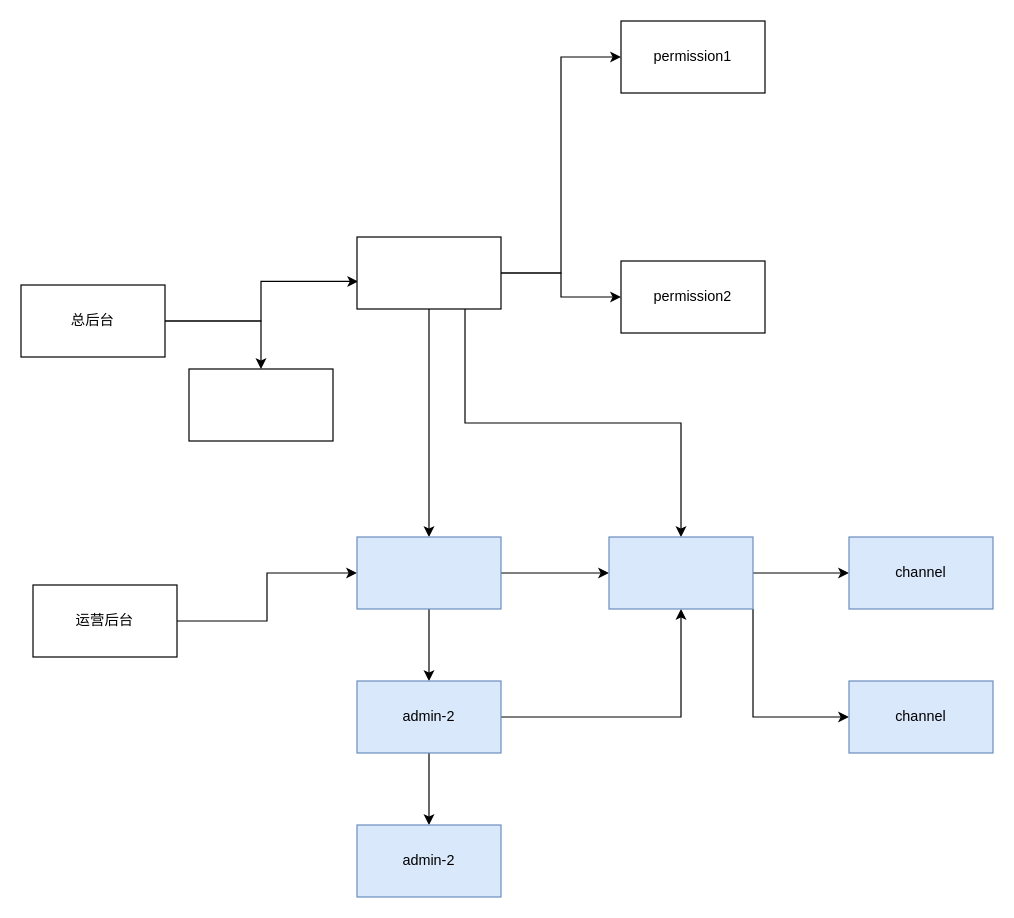
This 1014x918 diagram has some shape labels left out. The shapes that lost their labels are listed below. From the top down, each one's centre as x and y in pixels, then its label:
the point at 428,272: superAdmin
the point at 260,404: admin
the point at 428,572: admin-1
the point at 680,572: agent
